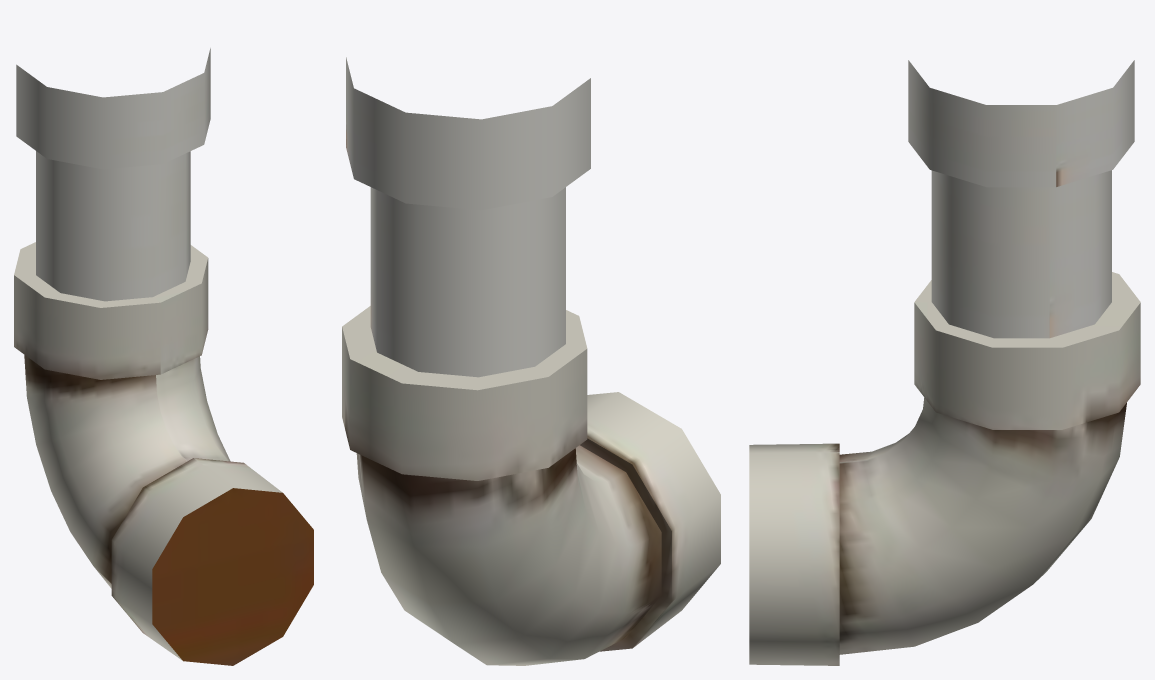
3 views of the same model, side by side, from view 1: azimuth 30°, elevation 25°; view 2: azimuth 150°, elevation 25°; view 3: azimuth 270°, elevation 25° (orthographic). The views are drawn at different scales.
Visible parts, largest first — view 1: body0_model0_lod0_mesh0; view 2: body0_model0_lod0_mesh0; view 3: body0_model0_lod0_mesh0.
Part boxes in pixels (x1,y1,x2,y2): body0_model0_lod0_mesh0: [14, 48, 313, 665]; body0_model0_lod0_mesh0: [342, 57, 720, 665]; body0_model0_lod0_mesh0: [749, 60, 1140, 665].
Size of the model in its own units: 4.76 by 14.56 by 8.64.
Materials: 1 (1 with a texture image).
